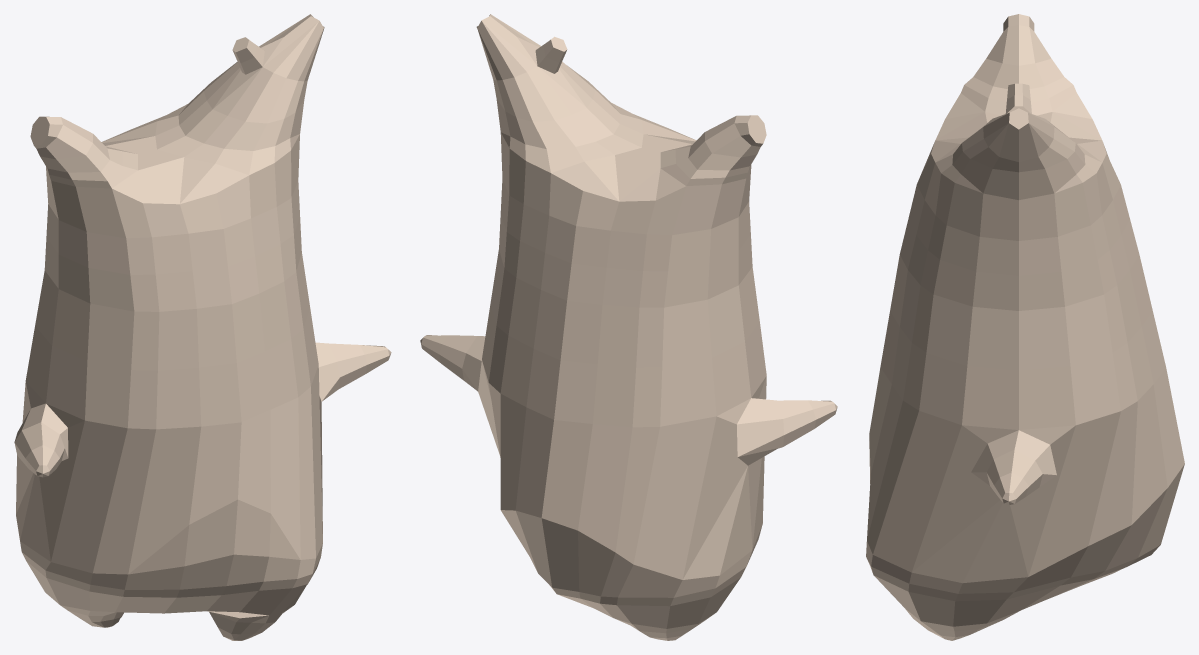
File: frame_0015.obj
3 renders of one model, left to right at view 1: azimuth 30°, elevation 25°; view 2: azimuth 150°, elevation 25°; view 3: azimuth 270°, elevation 25°, orthographic. The views are drawn at different scales.
Visible parts, largest first — view 1: korok; view 2: korok; view 3: korok.
Part boxes in pixels (x1,y1,x2,y2): korok: (14,14,391,640); korok: (420,14,837,640); korok: (866,14,1184,640).
Size of the model in its own units: 1.53 by 2.16 by 1.07.
